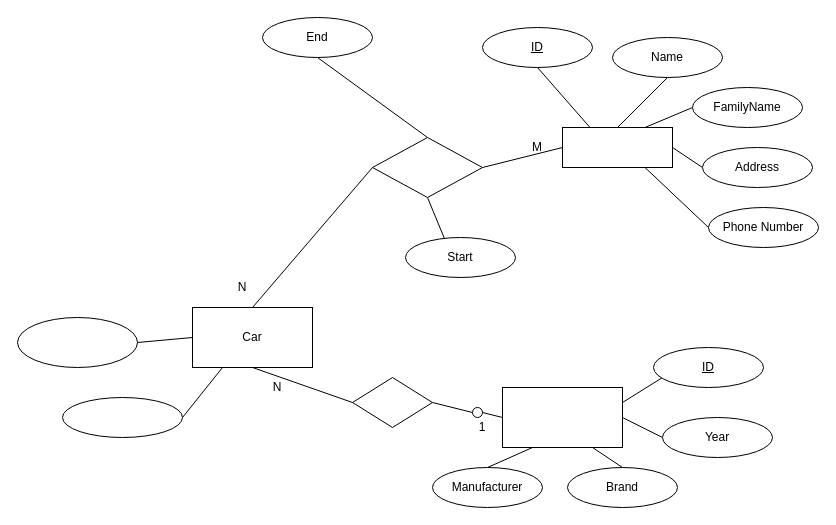
This 836x525 diagram has some shape labels left out. Each missing label, with the box of its shape:
Client: (562, 126, 672, 168)
Have: (352, 376, 432, 428)
Licence_Plate: (16, 316, 138, 368)
Models: (502, 386, 622, 448)
Order: (372, 136, 482, 198)
Price: (62, 396, 182, 438)
